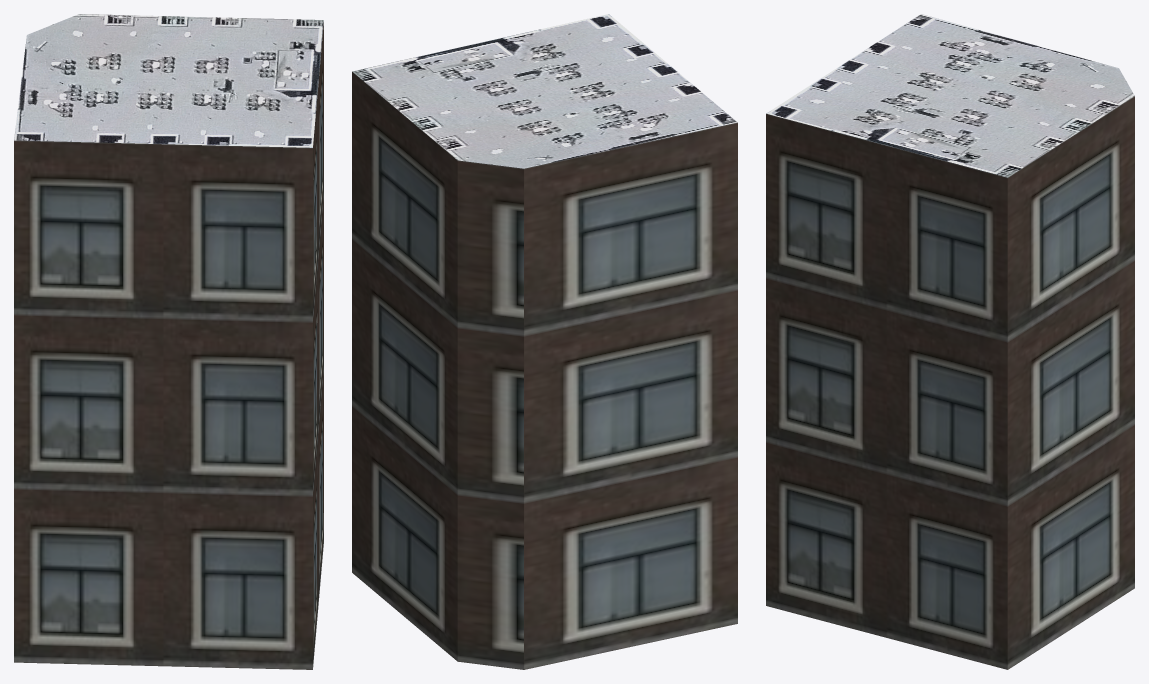
File: ResTex__5249.fbx
3 renders of one model, left to right at view 1: azimuth 30°, elevation 25°; view 2: azimuth 150°, elevation 25°; view 3: azimuth 270°, elevation 25°, orthographic. The views are drawn at different scales.
Visible parts, largest first — view 1: CityEngineMaterial_16_m, CityEngineMaterial_15_m; view 2: CityEngineMaterial_16_m, CityEngineMaterial_15_m; view 3: CityEngineMaterial_16_m, CityEngineMaterial_15_m.
Part boxes in pixels (left/top/right/bottom): CityEngineMaterial_16_m: left=14, top=22, right=323, bottom=669; CityEngineMaterial_15_m: left=14, top=14, right=323, bottom=147; CityEngineMaterial_16_m: left=352, top=71, right=737, bottom=669; CityEngineMaterial_15_m: left=352, top=14, right=737, bottom=168; CityEngineMaterial_16_m: left=766, top=96, right=1134, bottom=669; CityEngineMaterial_15_m: left=766, top=14, right=1134, bottom=177.
Size of the model in its own units: 6.42 by 9 by 6.11.
Materials: 2 (2 with a texture image).
